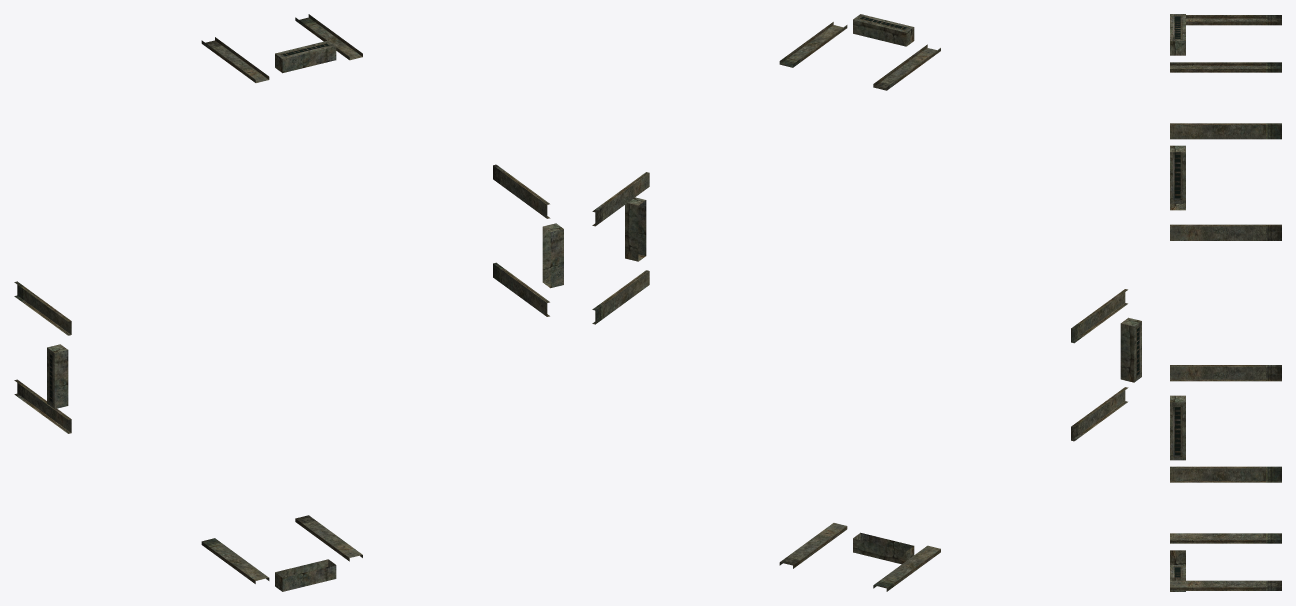
The model's file is tdr_d_room_c.obj.
3 views of the same model, side by side, from view 1: azimuth 30°, elevation 25°; view 2: azimuth 150°, elevation 25°; view 3: azimuth 270°, elevation 25° (orthographic). The views are drawn at different scales.
Parts seen in each view (by area): view 1: Pillars_(Wall).001_Cube.016, Window.003_Cube.033; view 2: Pillars_(Wall).001_Cube.016, Window.003_Cube.033; view 3: Pillars_(Wall).001_Cube.016, Window.003_Cube.033.
Part boxes in pixels (box(x1,y1,x2,y2)): Pillars_(Wall).001_Cube.016: box(14, 14, 550, 583); Window.003_Cube.033: box(47, 40, 563, 591); Pillars_(Wall).001_Cube.016: box(592, 22, 1128, 591); Window.003_Cube.033: box(625, 14, 1141, 564); Pillars_(Wall).001_Cube.016: box(1170, 15, 1281, 590); Window.003_Cube.033: box(1170, 14, 1185, 591).
Size of the model in its own units: 9728 by 9728 by 1792.
5 materials, 5 textured.
